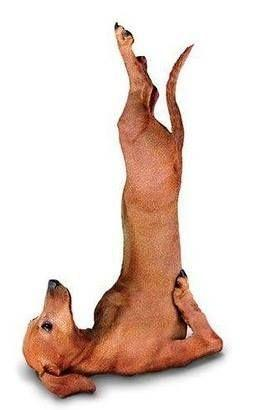adult_dog: (22, 20, 223, 400)
